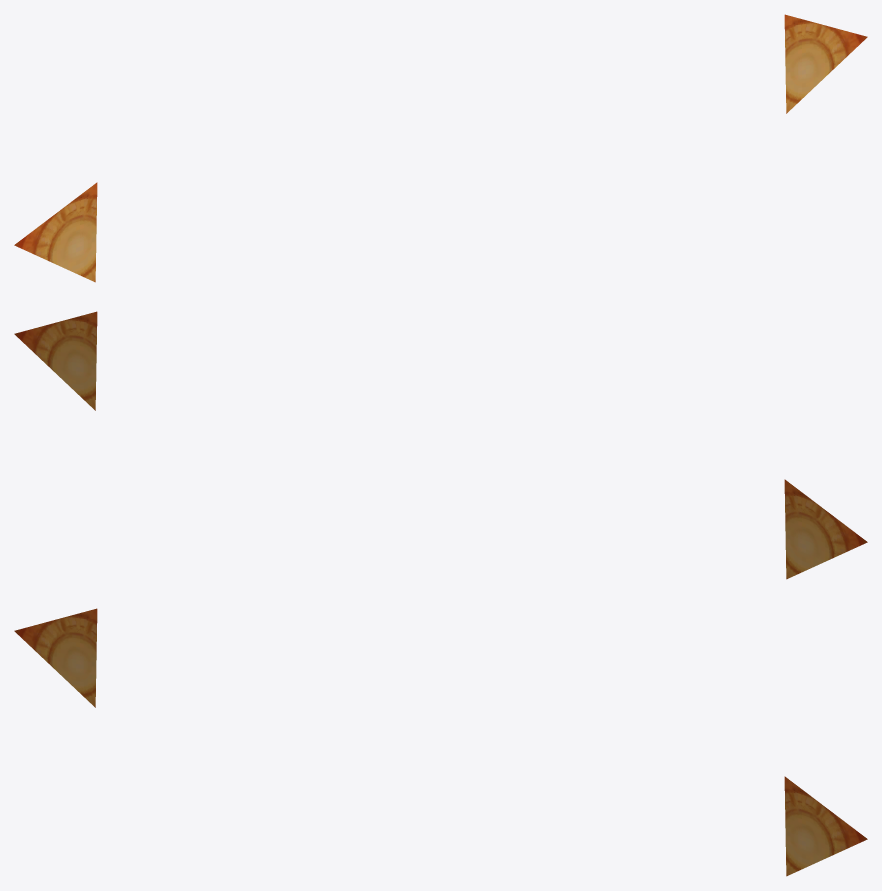
Rendered from hutt_fighter_light_booster_s01_on_l3.fbx.
The picture shows the model from 3 angles, top to bottom: view 1: azimuth 30°, elevation 25°; view 2: azimuth 150°, elevation 25°; view 3: azimuth 330°, elevation 25°; orthographic projection.
Visible parts, largest first — view 1: mesh_node; view 2: mesh_node; view 3: mesh_node.
Boxes of the visible parts, bbox=[...] form: mesh_node: bbox=[14, 14, 867, 282]; mesh_node: bbox=[14, 311, 867, 579]; mesh_node: bbox=[14, 608, 867, 876].
Bounding box in the file's own units: 3.54 × 0.3959 × 0.
1 material, 1 textured.
